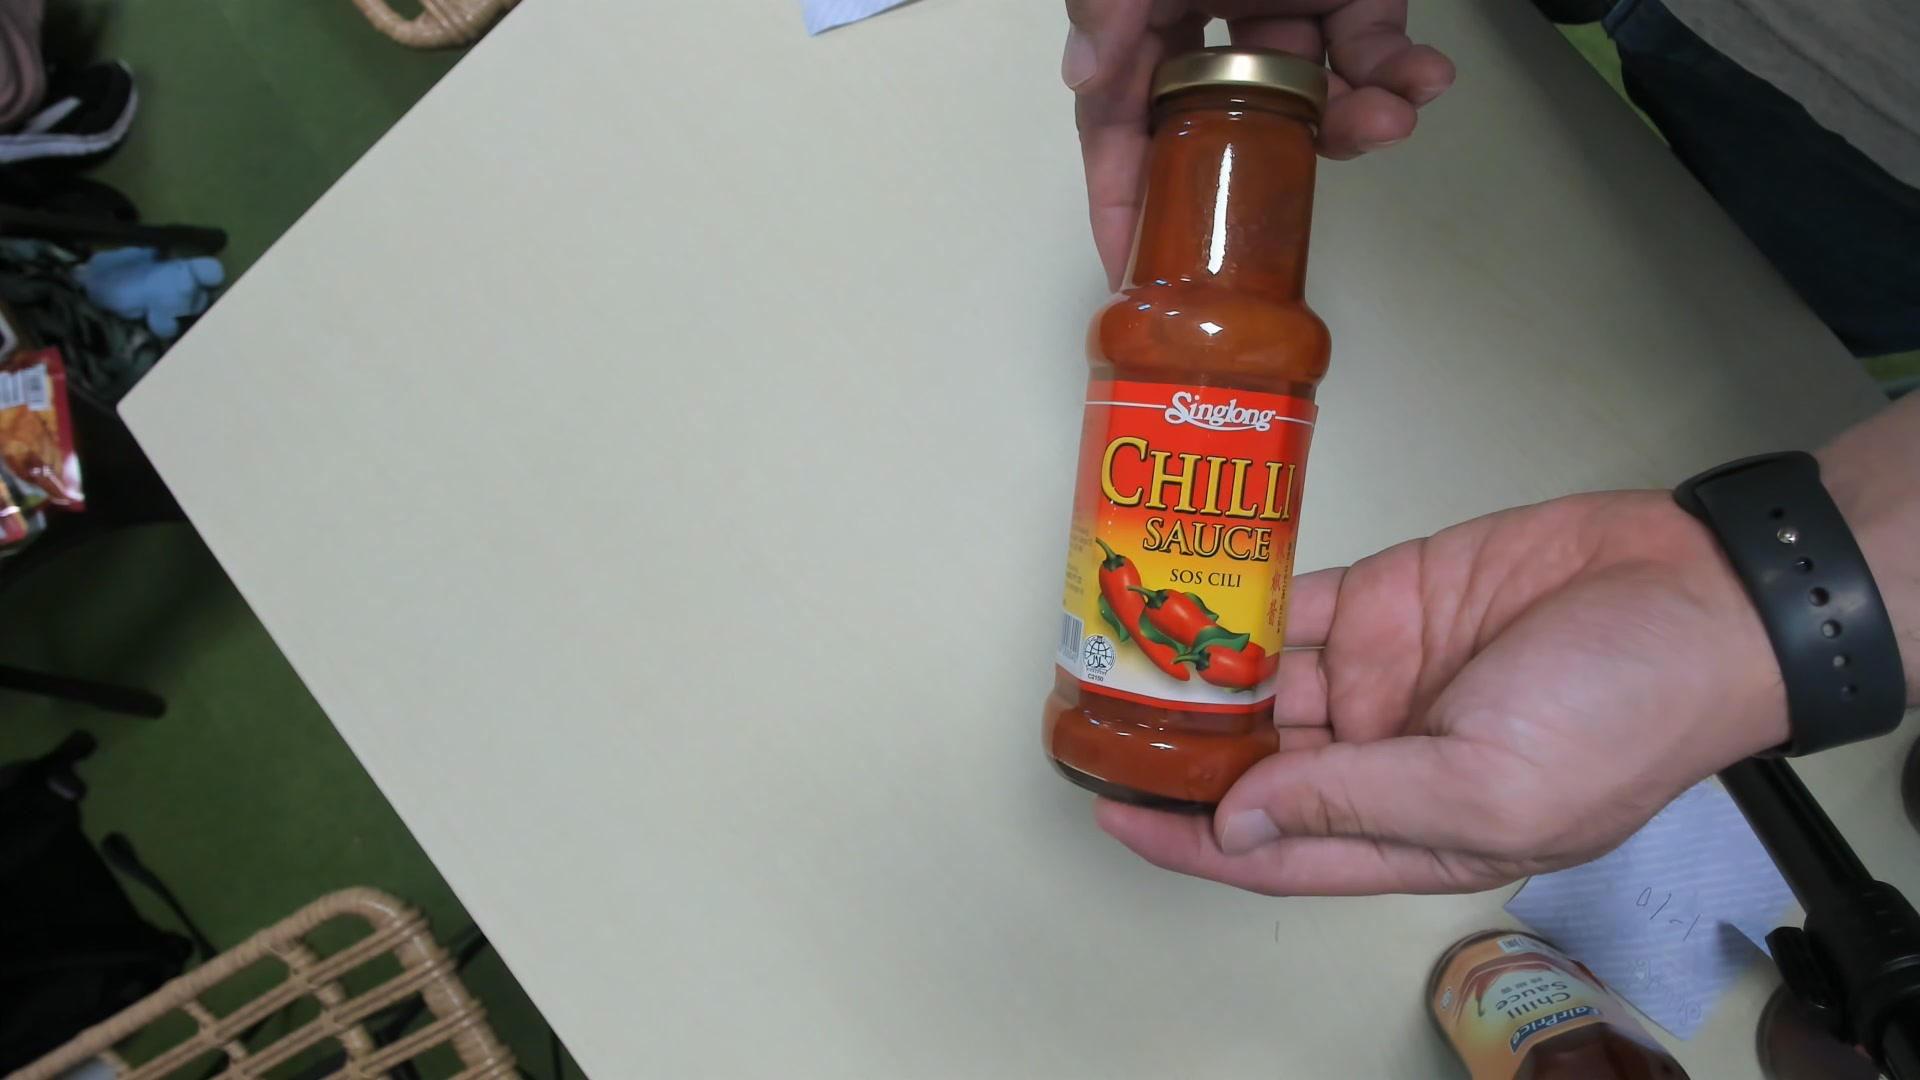KetchupChillSauce_200-299g_Halal_NonHealthy: (1043, 47, 1329, 814)
